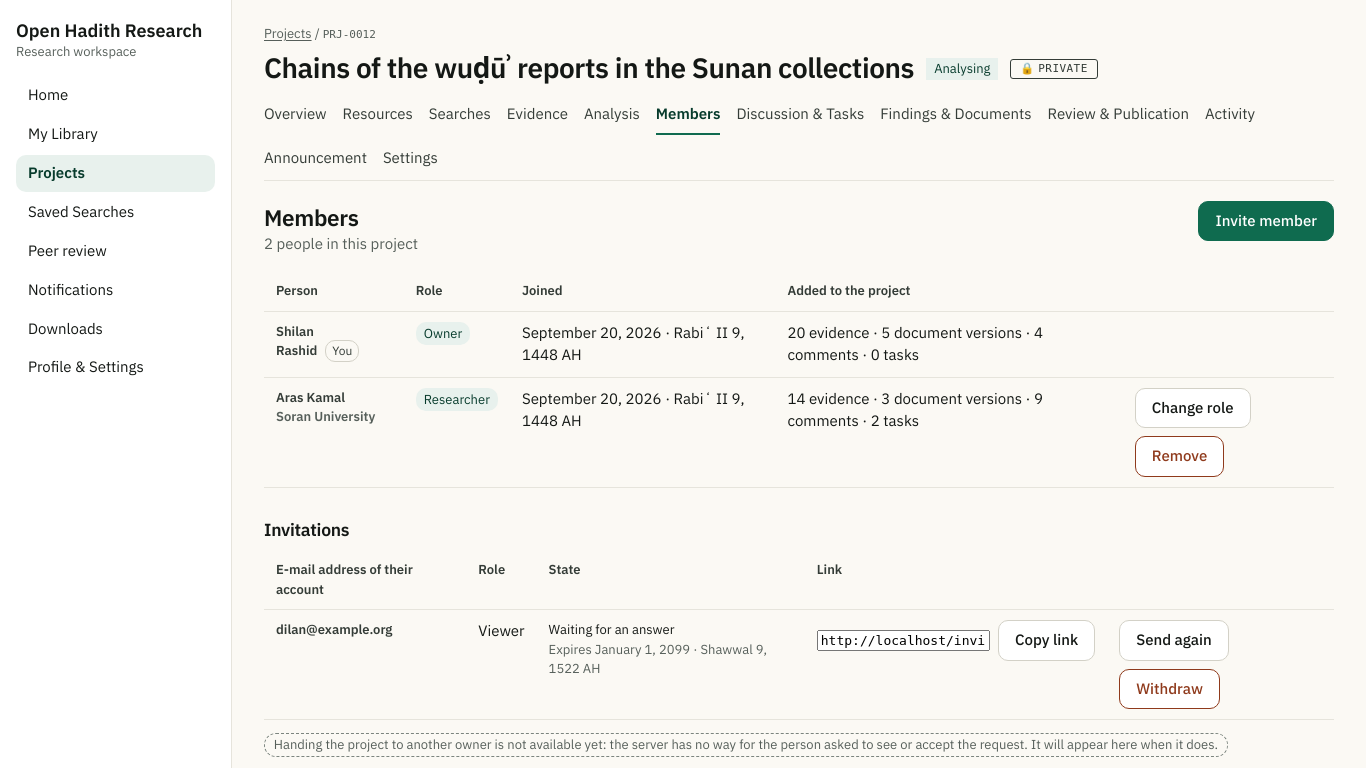
Members: inviting › does not send an address that is not an address
Click the button "Invite member" at (1266,221), box [1198, 201, 1334, 241]
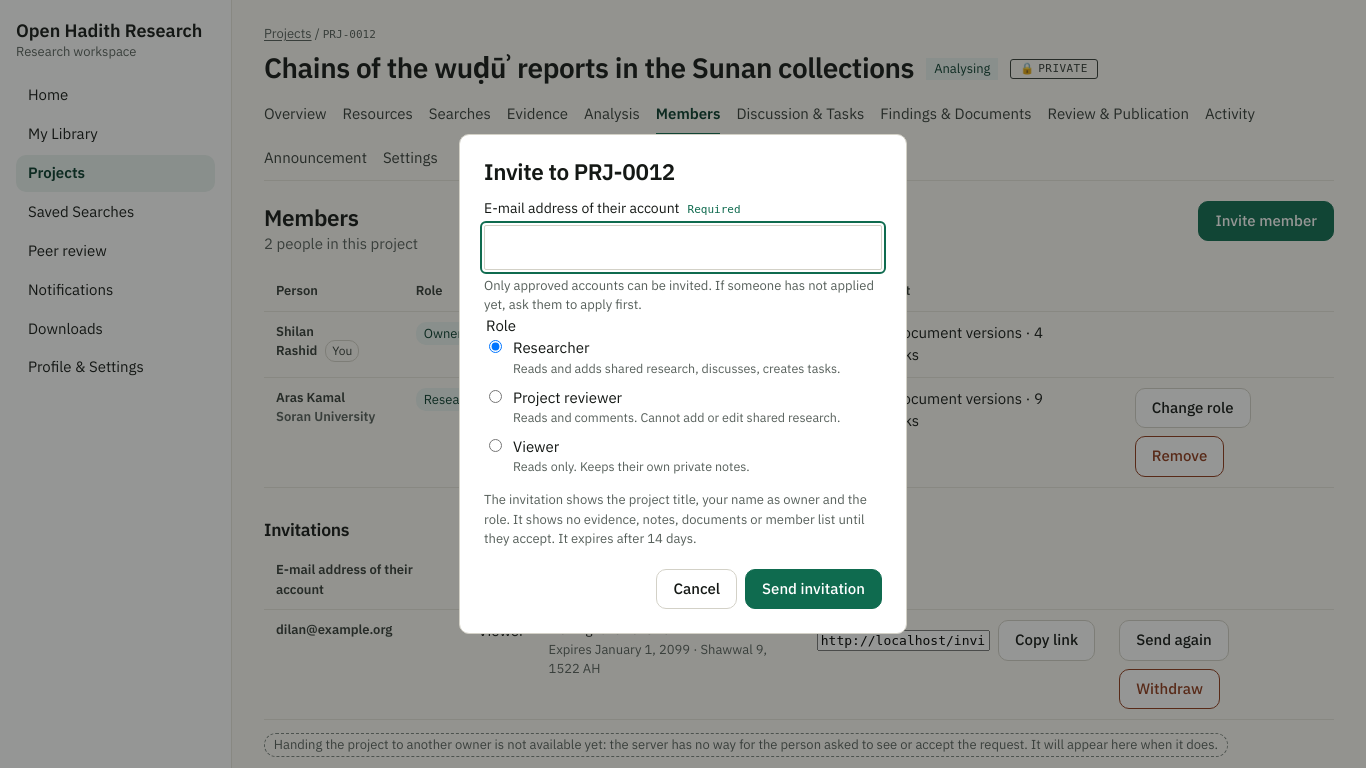
Type "nobody" into the field labelled "E-mail address" at (683,248), box [484, 225, 882, 270]
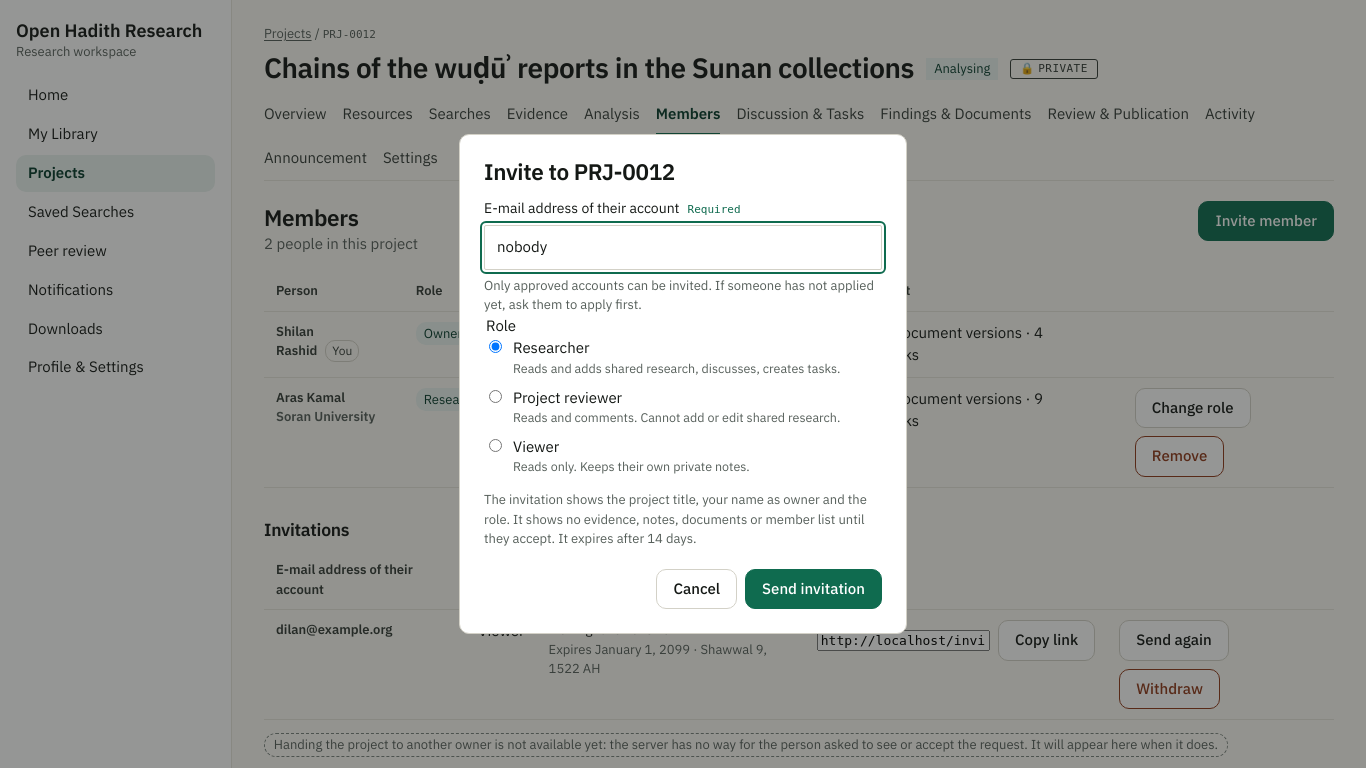
Click the button "Send invitation" at (814,589), box [745, 569, 882, 609]
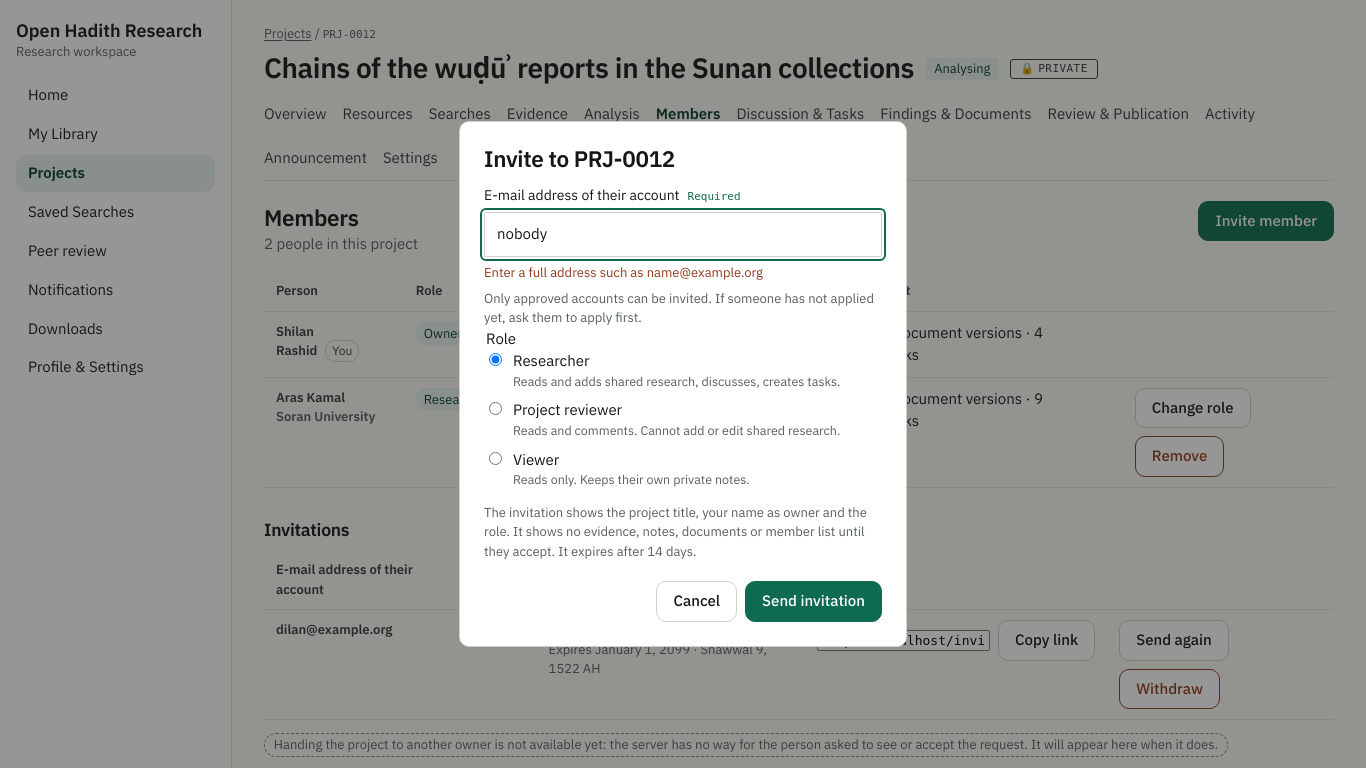
expect the text "Enter a full address such as name@example.org" is shown: met, box [484, 263, 763, 282]
